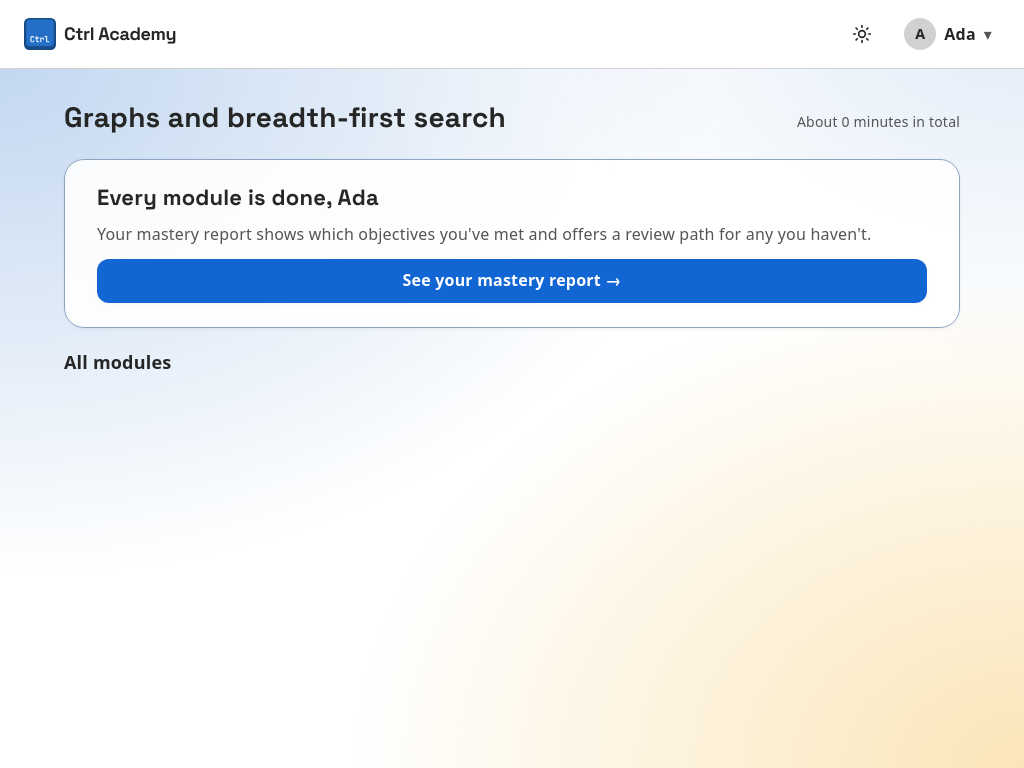
logging out › says so when logging out fails
Click the button named "your account": (948, 34) [896,12,1000,56]
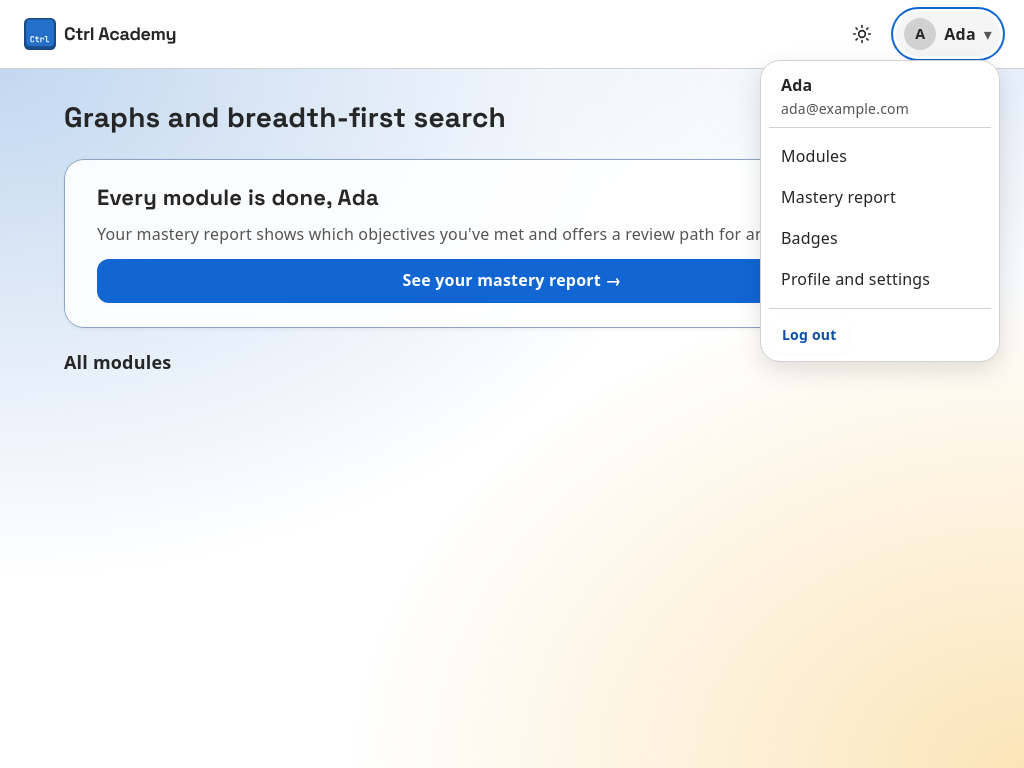
Click the button "Log out": (809, 335) [769,317,849,353]
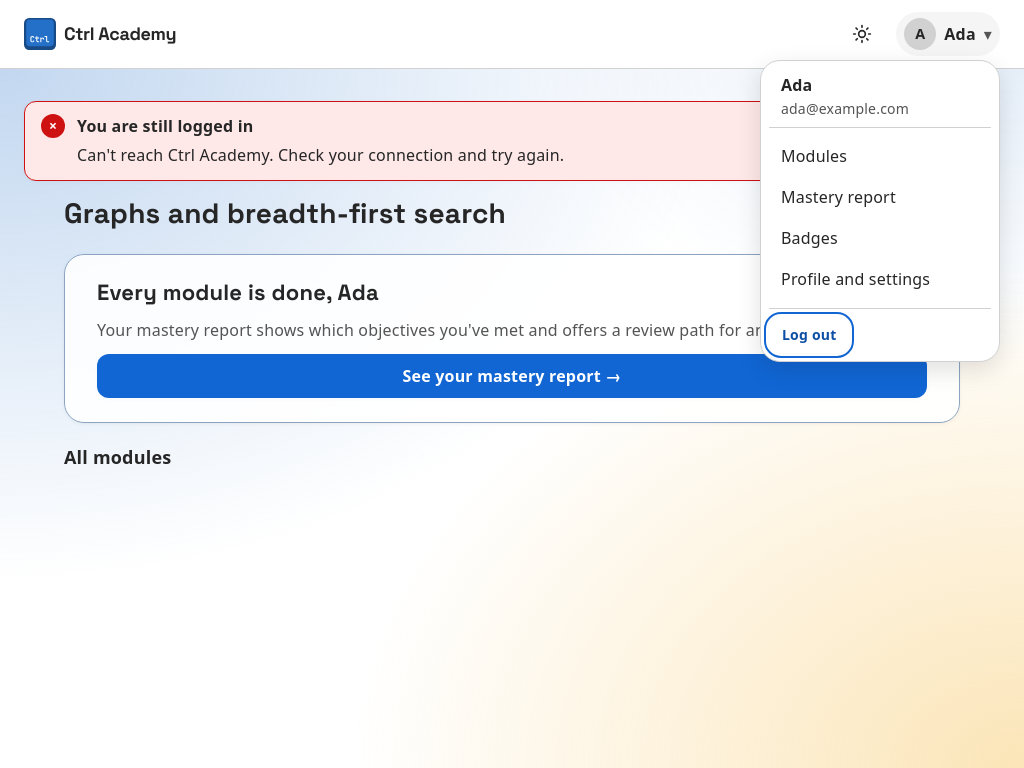
Expected: the heading "Graphs and breadth-first search" is shown, [64,197,506,230]
Result: the text "You are still logged in" is shown at [77,115,254,137]
